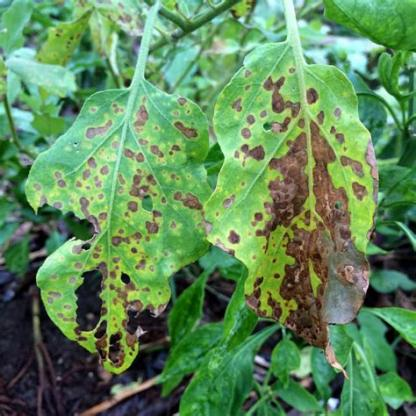black-spot: (238, 87, 355, 250), (72, 116, 183, 200), (113, 220, 170, 278)
